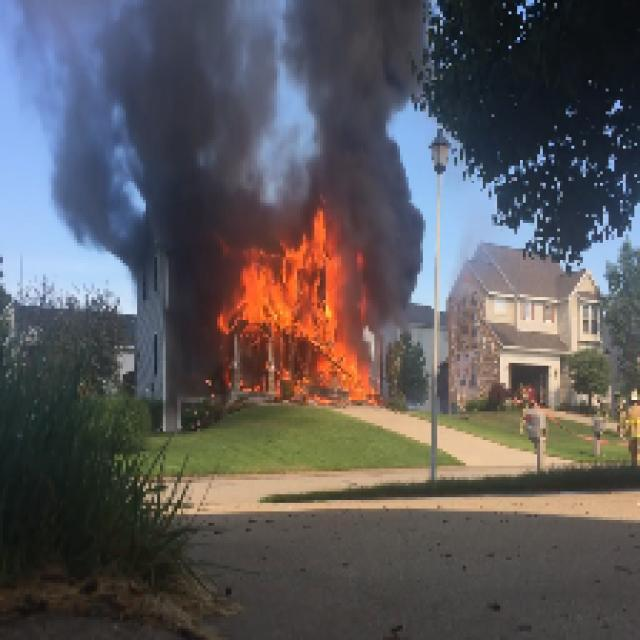Fire: (235, 240, 341, 376)
Smoke: (138, 6, 235, 352), (319, 8, 399, 242)
